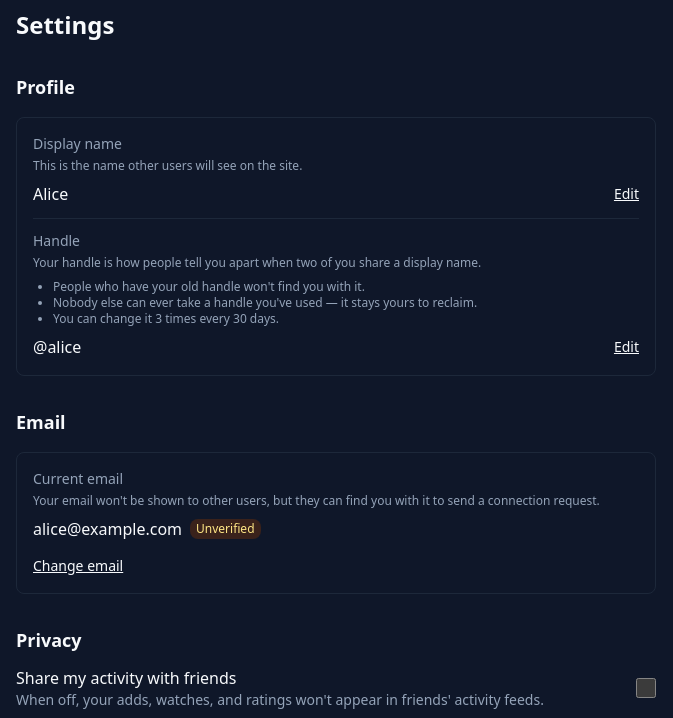
SettingsPage › Cancel restores the original name and closes the editor
Expected: the text "Alice" is shown, [33,182,68,206]
Click the button with aria-label "edit display name".
click(626, 194)  # box [614,184,639,204]
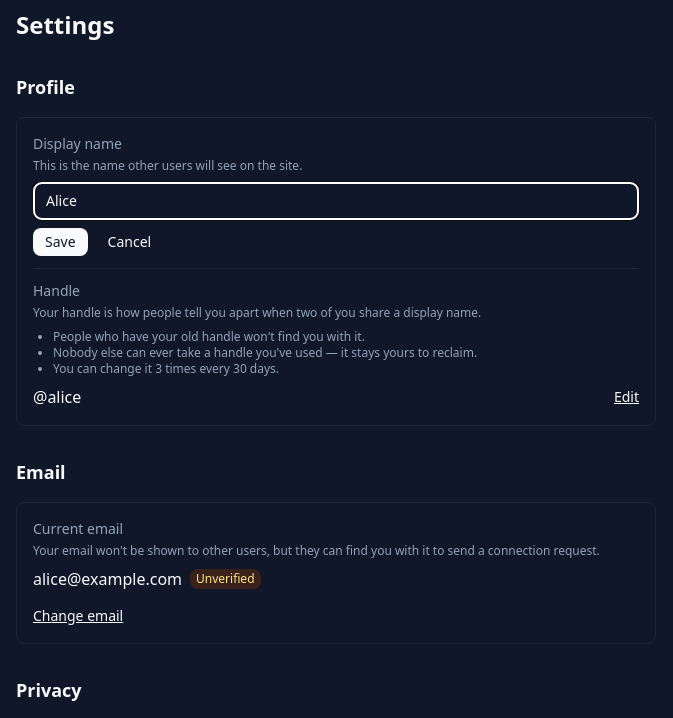
Replace the text in the field named "display name" with "Discarded" at (336, 201), box [33,182,639,220]
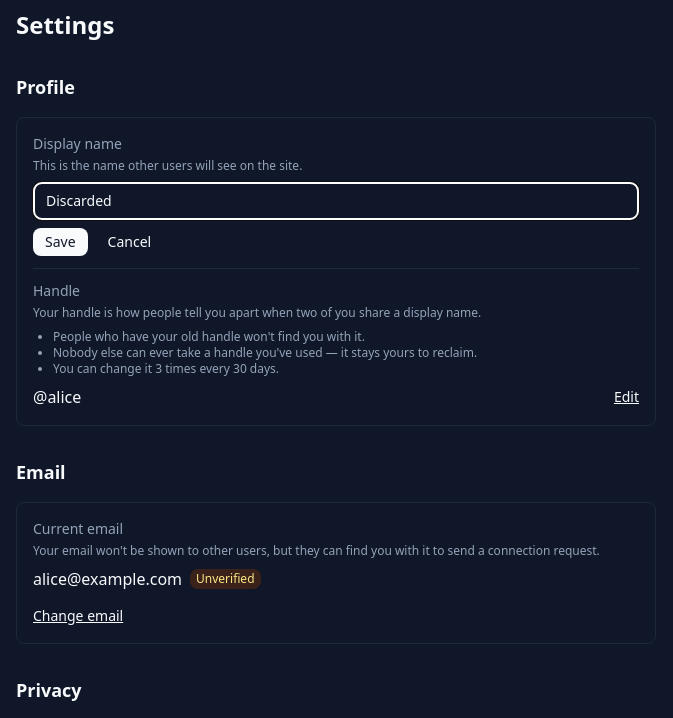
Click the button "Cancel".
click(129, 242)  # box [96,228,163,256]
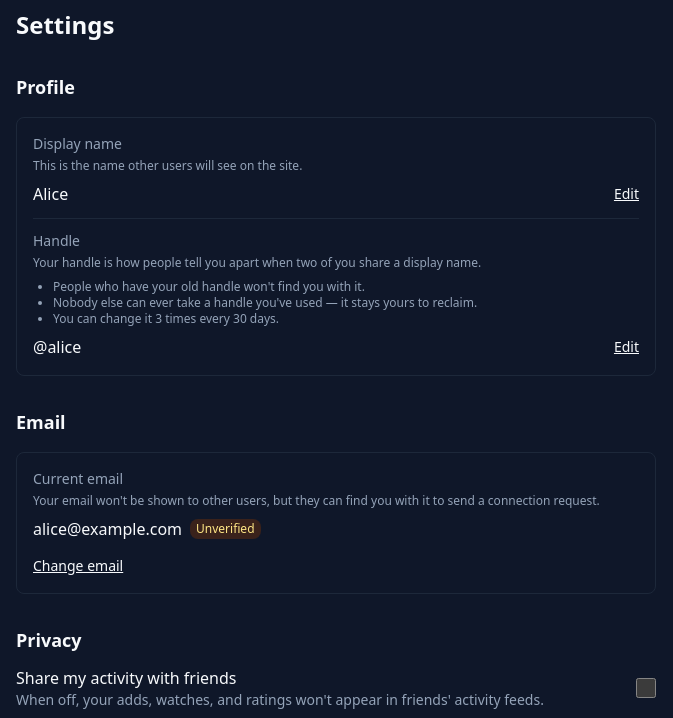
Expected: the button "Save" is gone
Expected: the text "Alice" is shown, [33,182,68,206]
